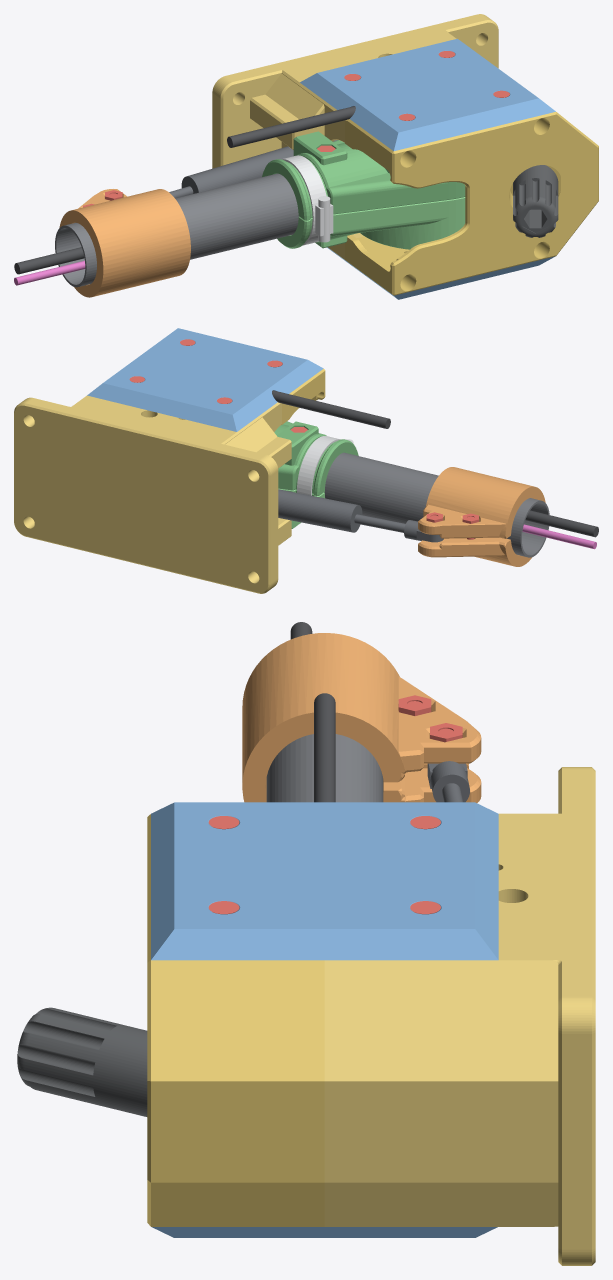
File: MkIII_Rev4_Assembly.glb
3 renders of one model, top to bottom at view 1: azimuth 30°, elevation 25°; view 2: azimuth 150°, elevation 25°; view 3: azimuth 270°, elevation 25°, orthographic. The views are drawn at different scales.
Parts seen in each view (by area): view 1: shell, cover_cable, frame, strut_collar, carbon_tube, lever_cable, lever_sensor, friction_knob, usb_cable, gas_strut, hose_clamp, cover_sensor (+2 smaller); view 2: frame, cover_cable, strut_collar, carbon_tube, gas_strut, lever_cable, usb_cable, hose_clamp, shell, sensor_wires, hardware; view 3: frame, cover_cable, shell, strut_collar, friction_knob, carbon_tube, cover_sensor, usb_cable, gas_strut, hardware, strut_pins.
Part boxes in pixels (bbox=[...]): shell: bbox=[345, 112, 598, 295]; cover_cable: bbox=[300, 38, 555, 151]; frame: bbox=[212, 14, 498, 259]; strut_collar: bbox=[59, 189, 190, 297]; carbon_tube: bbox=[55, 173, 298, 287]; lever_cable: bbox=[262, 131, 465, 220]; lever_sensor: bbox=[277, 197, 465, 249]; friction_knob: bbox=[513, 165, 558, 237]; usb_cable: bbox=[14, 106, 355, 274]; gas_strut: bbox=[169, 140, 337, 198]; hose_clamp: bbox=[281, 155, 333, 245]; cover_sensor: bbox=[327, 247, 555, 299]; frame: bbox=[14, 395, 291, 593]; cover_cable: bbox=[87, 328, 323, 431]; strut_collar: bbox=[418, 467, 545, 566]; carbon_tube: bbox=[324, 452, 549, 557]; gas_strut: bbox=[278, 489, 443, 542]; lever_cable: bbox=[274, 421, 358, 495]; usb_cable: bbox=[272, 390, 598, 537]; hose_clamp: bbox=[297, 436, 356, 495]; shell: bbox=[281, 368, 325, 424]; sensor_wires: bbox=[522, 524, 596, 549]; hardware: bbox=[129, 339, 282, 403]; frame: bbox=[324, 767, 595, 1265]; cover_cable: bbox=[151, 802, 498, 960]; shell: bbox=[147, 814, 324, 1226]; strut_collar: bbox=[242, 633, 481, 802]; friction_knob: bbox=[17, 1007, 147, 1116]; carbon_tube: bbox=[266, 734, 383, 802]; cover_sensor: bbox=[152, 1227, 497, 1237]; usb_cable: bbox=[290, 622, 335, 802]; gas_strut: bbox=[427, 761, 469, 802]; hardware: bbox=[208, 816, 440, 914]; strut_pins: bbox=[398, 695, 462, 742].
Size of the model in its own units: 252 by 73 by 124.
